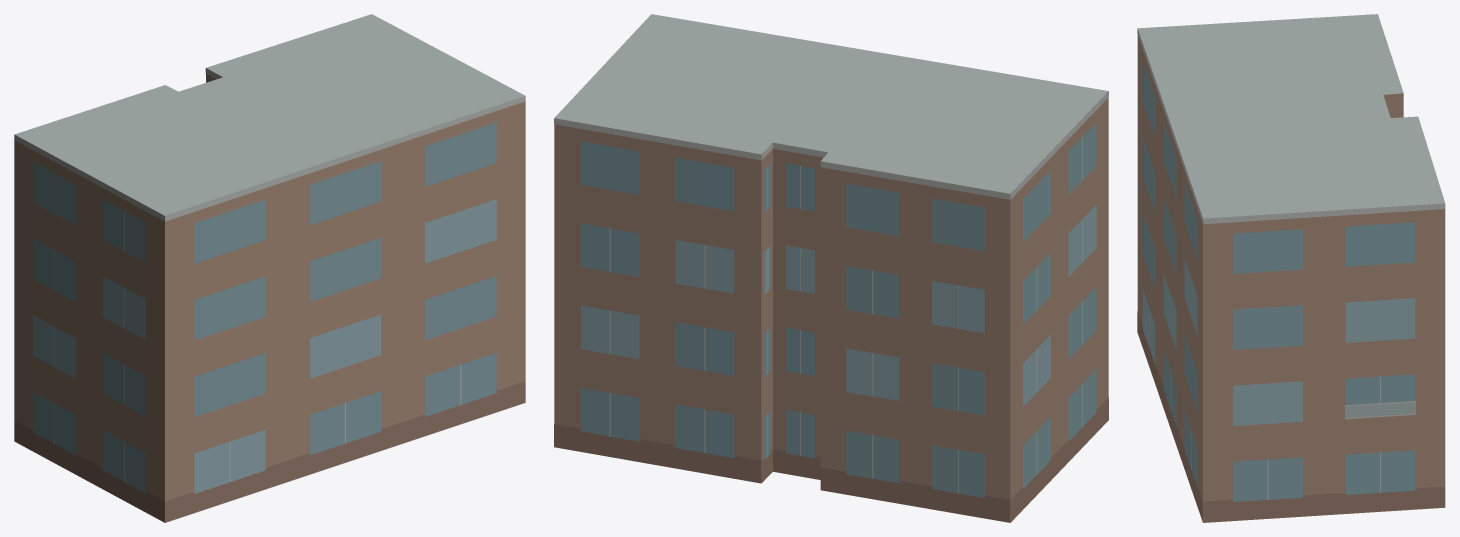
The model's file is survey-upis-32740618.glb.
3 views of the same model, side by side, from view 1: azimuth 30°, elevation 25°; view 2: azimuth 150°, elevation 25°; view 3: azimuth 270°, elevation 25° (orthographic). The views are drawn at different scales.
Parts seen in each view (by area): view 1: survey-upis-32740618.tmp; view 2: survey-upis-32740618.tmp; view 3: survey-upis-32740618.tmp.
Part boxes in pixels (x1,y1,x2,y2): survey-upis-32740618.tmp: [14, 14, 525, 522]; survey-upis-32740618.tmp: [554, 14, 1108, 522]; survey-upis-32740618.tmp: [1137, 14, 1445, 522].
Size of the model in its own units: 19.12 by 13.25 by 12.16.
